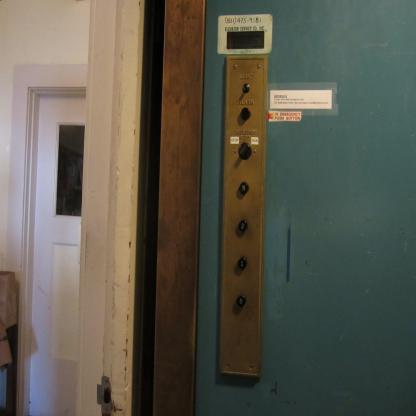1: (237, 255, 247, 271)
2: (237, 218, 248, 234)
B: (236, 293, 246, 308)
R: (239, 180, 249, 195)
empty: (240, 106, 250, 121)
led: (225, 29, 266, 50)
switch: (238, 140, 252, 160)
